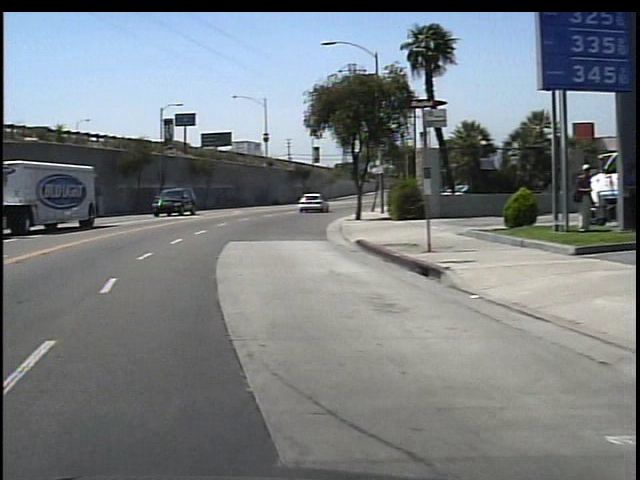person: (563, 160, 591, 235)
